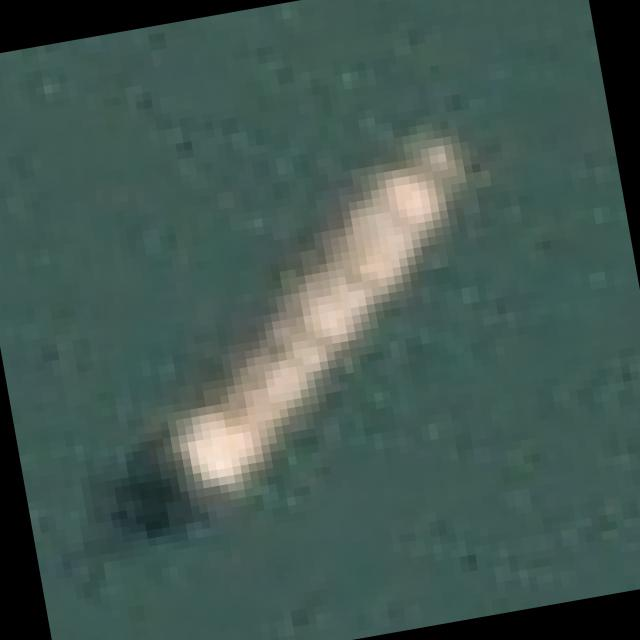ship: (63, 100, 553, 540)
